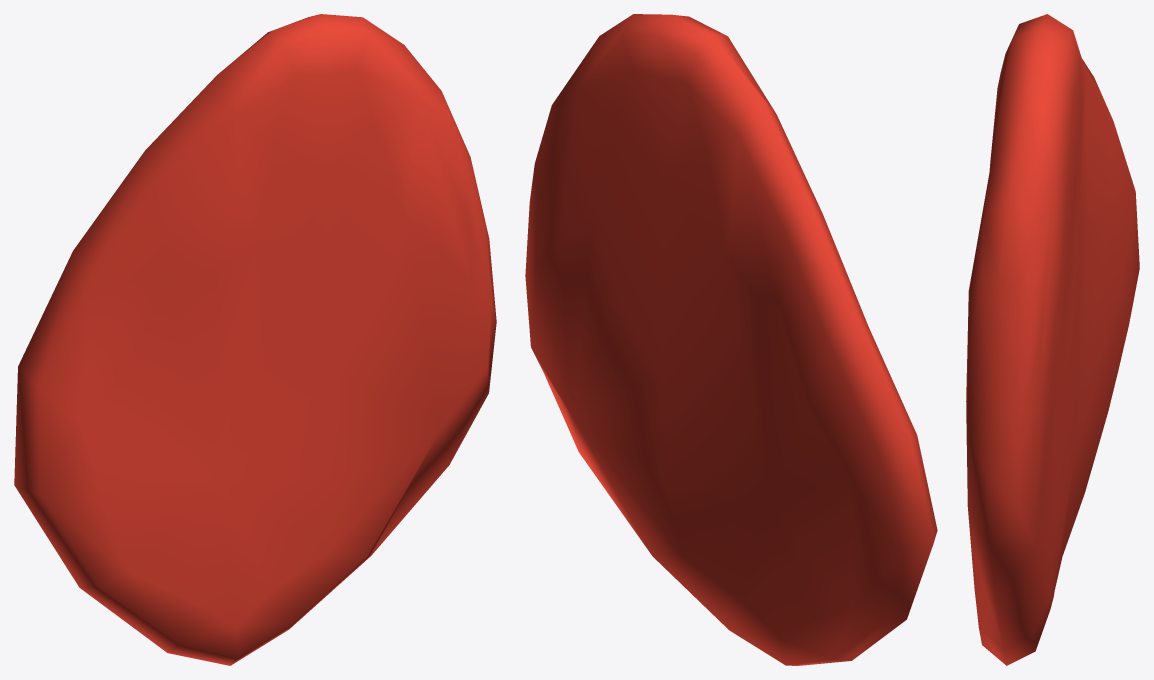
File: Flexor_pollicis_longus-Ulnar_insertion.r_Generated_Mesh_From_X3.glb
3 renders of one model, left to right at view 1: azimuth 30°, elevation 25°; view 2: azimuth 150°, elevation 25°; view 3: azimuth 270°, elevation 25°, orthographic. The views are drawn at different scales.
Visible parts, largest first — view 1: Flexor_pollicis_longus-Ulnar_insertion.r_Generated_Mesh_From; view 2: Flexor_pollicis_longus-Ulnar_insertion.r_Generated_Mesh_From; view 3: Flexor_pollicis_longus-Ulnar_insertion.r_Generated_Mesh_From.
Part boxes in pixels (x1,y1,x2,y2): Flexor_pollicis_longus-Ulnar_insertion.r_Generated_Mesh_From: (14,14,496,665); Flexor_pollicis_longus-Ulnar_insertion.r_Generated_Mesh_From: (525,14,937,665); Flexor_pollicis_longus-Ulnar_insertion.r_Generated_Mesh_From: (966,14,1139,665).
Size of the model in its own units: 0.00343 by 0.00467 by 0.00107.
